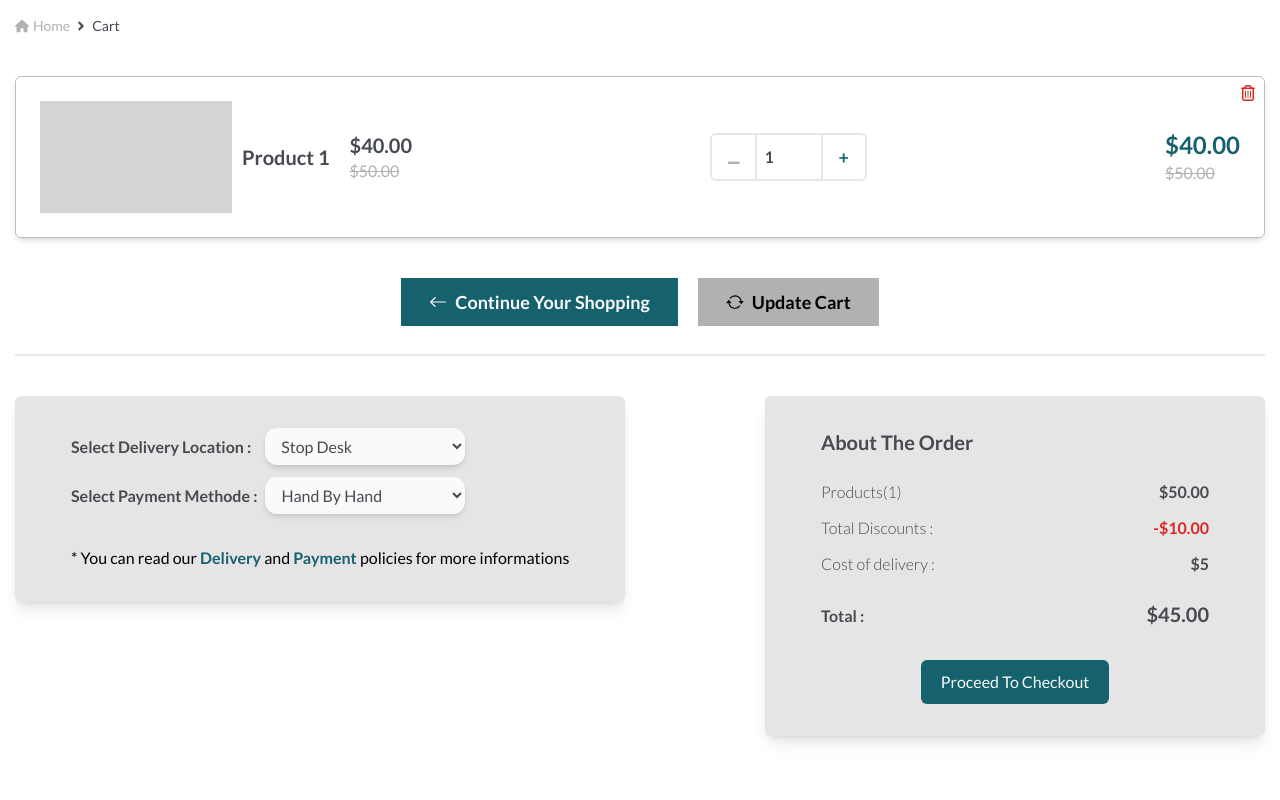
Test: CartBody Component › displays the total price < 50 correctly
This screenshot has width=1280, height=800.
Expected: the text with test id "total-price" reads "$45.00", [1146,602,1209,626]
Select "/Door Step/i" in the dropdown with test id "delivery-select" at (365, 446), box [265,428,465,465]
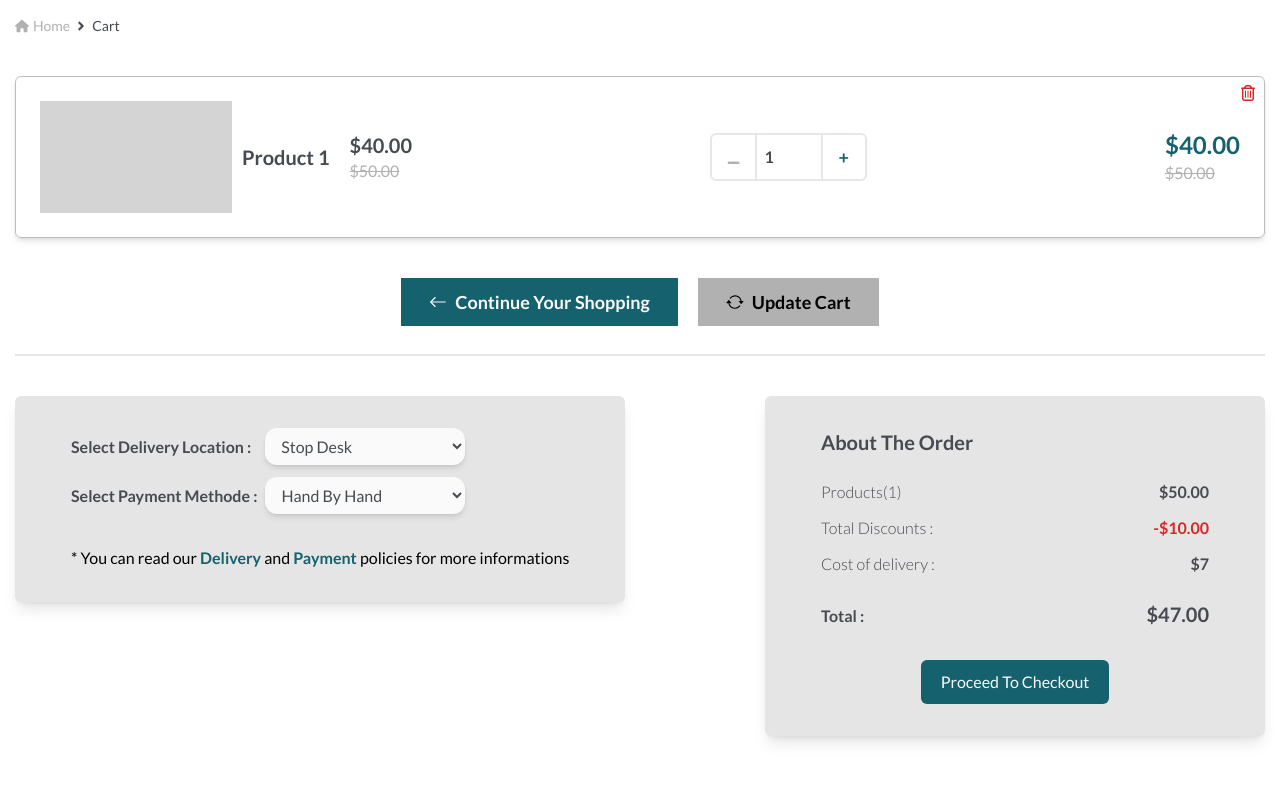
Result: the text with test id "total-price" reads "$47.00" at [1146,602,1209,626]
